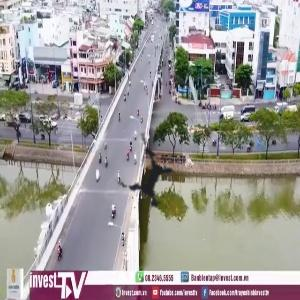drone: (86, 113, 214, 241)
